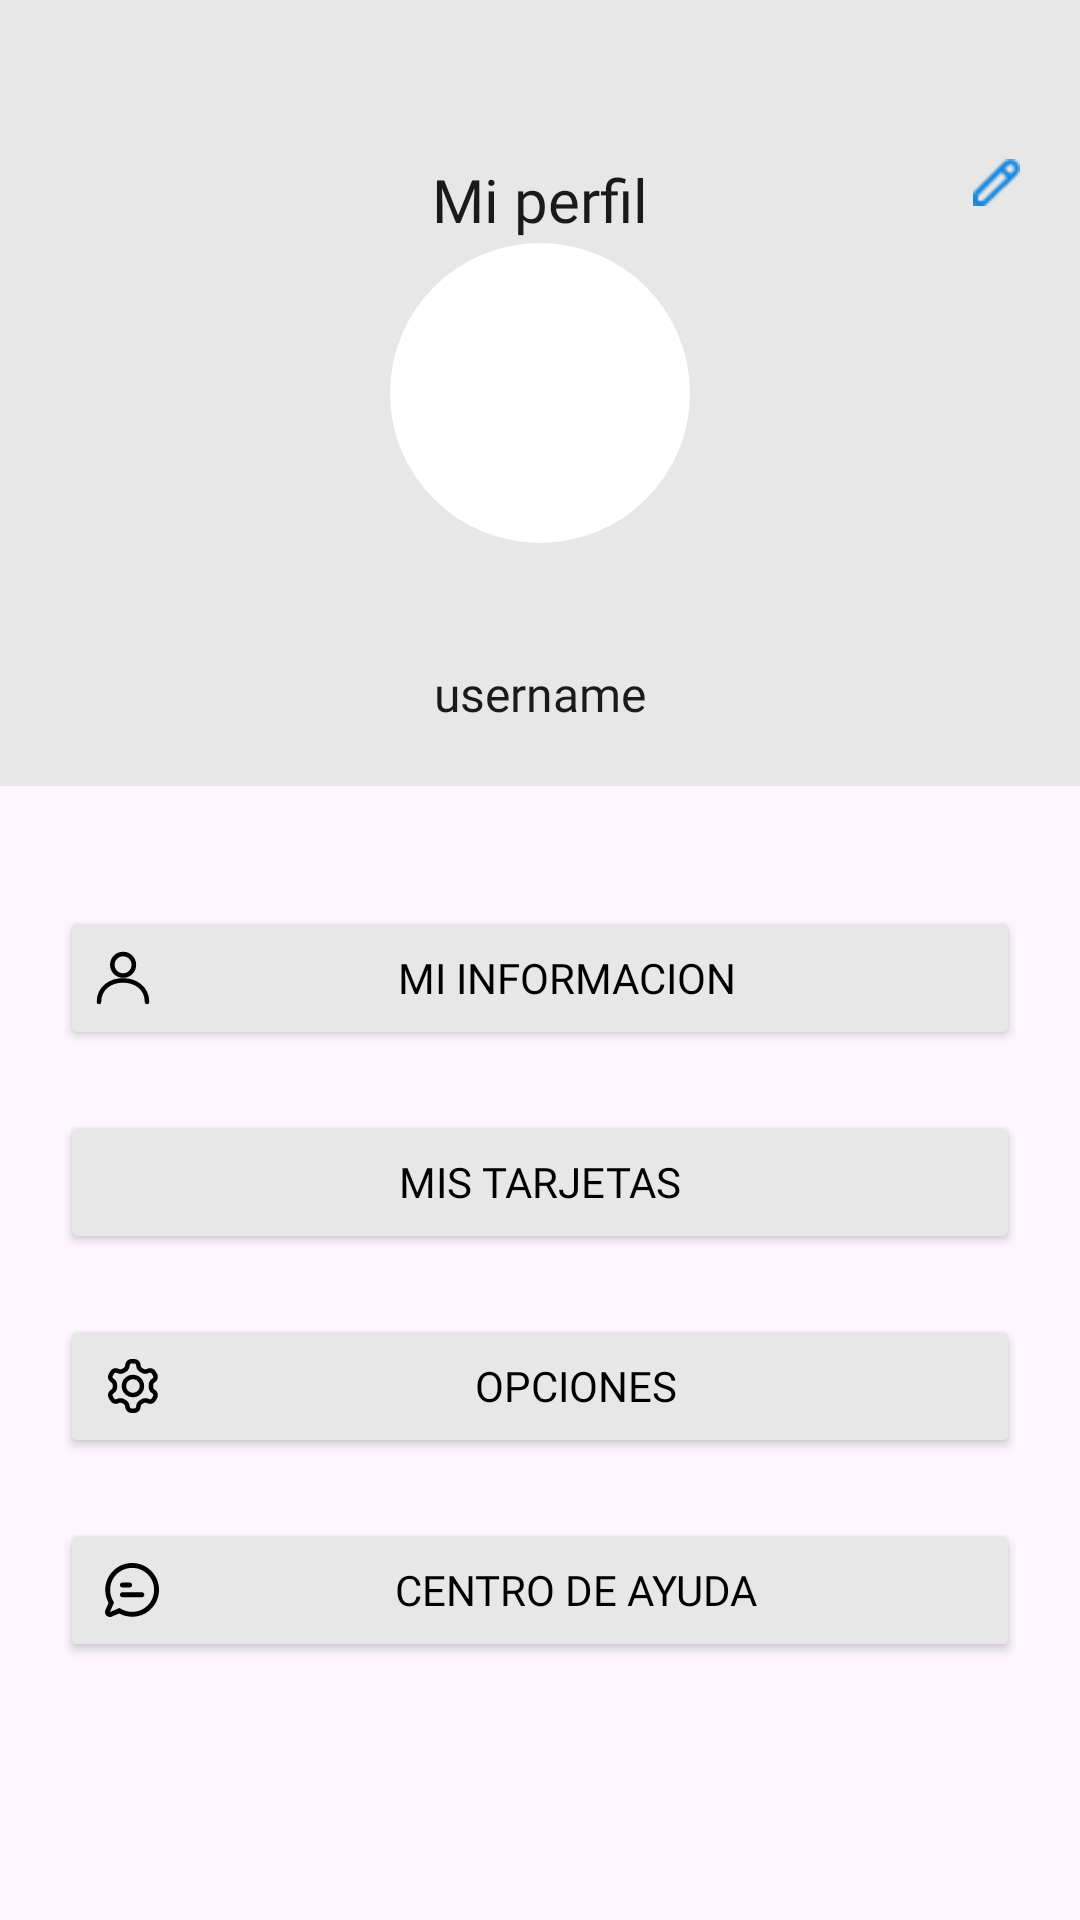

Icons on this 1080×1920 Android screen, each with its box as (x1, y1, x2, y2):
pencil: (973, 159, 1020, 206)
